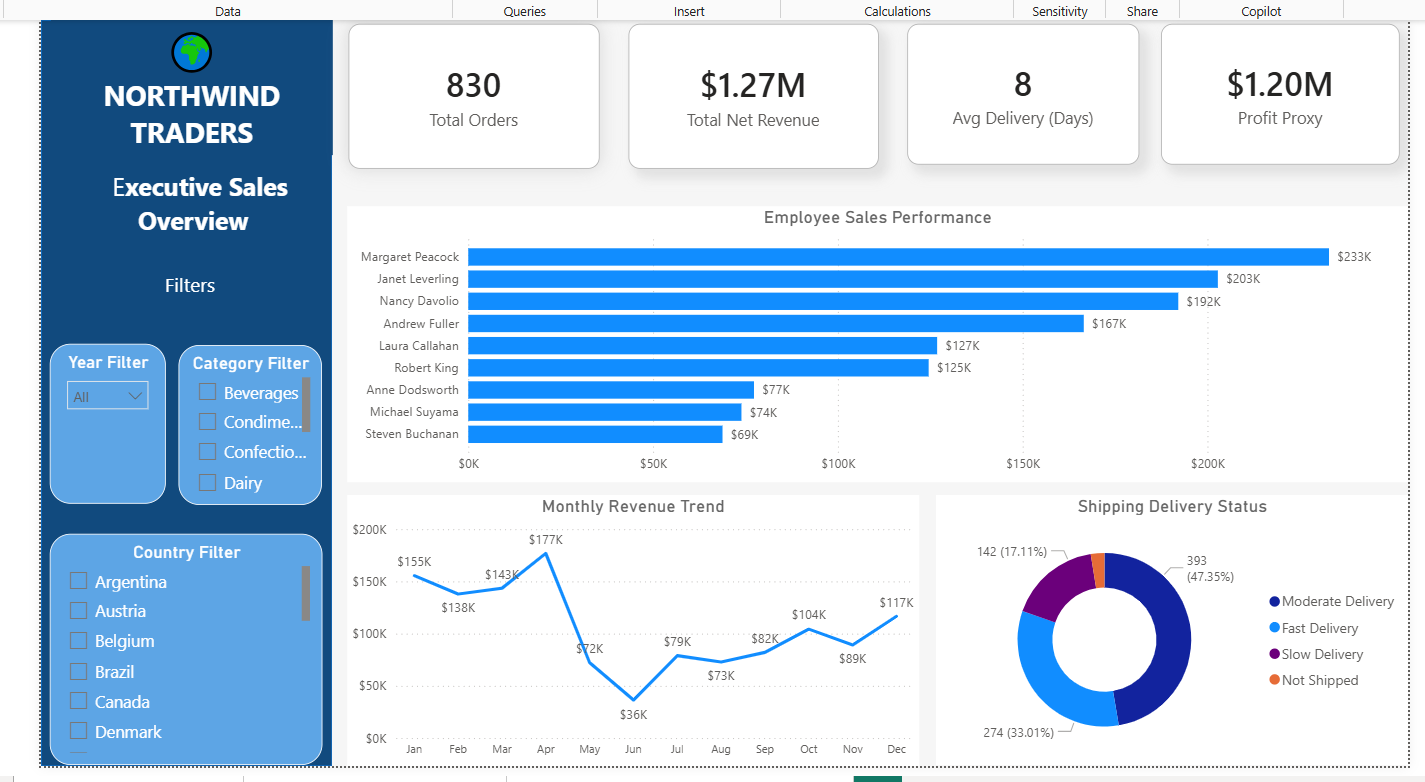

This screenshot's page, from the dashboard's own definition file:
{"tool":"powerbi","page":{"name":"Sales & Revenue Overview","canvas":[1320,720],"ordinal":0},"visuals":[{"type":"shape","box":[0,0,281.1,720.2],"z":0},{"type":"textbox","title":"NORTHWIND TRADERS","box":[9.9,0,271.7,130.2],"z":1000},{"type":"textbox","box":[49.4,140,194.9,79.6],"z":2000},{"type":"cardVisual","fields":{"Data":["categories.Total Orders"]},"box":[296.8,3.6,242.5,139.9],"z":3000},{"type":"cardVisual","fields":{"Data":["categories.Total Net Revenue"]},"box":[567,3.6,241.3,139.9],"z":4000},{"type":"cardVisual","fields":{"Data":["categories.Avg Delivery Days"]},"box":[836.1,3.6,224.4,136.3],"z":5000},{"type":"cardVisual","fields":{"Data":["categories.Profit Proxy"]},"box":[1081,3.6,230.4,136.3],"z":6000},{"type":"clusteredBarChart","title":"Employee Sales Performance","fields":{"Category":["employees.employeeName"],"Y":["categories.Total Net Revenue"]},"box":[295.6,179.8,1024.3,266.6],"z":7000},{"type":"lineChart","title":"Monthly Revenue Trend","fields":{"Y":["categories.Total Net Revenue"],"Category":["orders.Month Short"]},"box":[296.2,458.7,552.2,262.8],"z":8000},{"type":"slicer","title":"Year Filter","fields":{"Values":["orders.orderYear"]},"box":[8.5,312.7,111.8,154.2],"z":9000},{"type":"slicer","title":"Country Filter","fields":{"Values":["customers.country"]},"box":[8.5,495.3,263.2,223.6],"z":10000},{"type":"slicer","title":"Category Filter","fields":{"Values":["categories.categoryName"]},"box":[133,314.2,138.7,154.2],"z":11000},{"type":"textbox","box":[43.9,237.7,200.9,43.9],"z":12000},{"type":"donutChart","title":"Shipping Delivery Status","fields":{"Category":["orders.delayStatus"],"Y":["categories.Total Orders"]},"box":[864,458.7,456.5,260.5],"z":13000}]}

Visuals, with their boxes on the page's 1320x720 design canvas (x1, y1, x2, y2). These are canvas units, not pixel positions in the 1425x782 screenshot, which may show the page scaled, cropped or inside an application window:
shape: crop(0, 0, 281, 720)
"NORTHWIND TRADERS" textbox: crop(10, 0, 282, 130)
textbox: crop(49, 140, 244, 220)
cardVisual - categories.Total Orders: crop(297, 4, 539, 144)
cardVisual - categories.Total Net Revenue: crop(567, 4, 808, 144)
cardVisual - categories.Avg Delivery Days: crop(836, 4, 1060, 140)
cardVisual - categories.Profit Proxy: crop(1081, 4, 1311, 140)
"Employee Sales Performance" clusteredBarChart: crop(296, 180, 1320, 446)
"Monthly Revenue Trend" lineChart: crop(296, 459, 848, 722)
"Year Filter" slicer: crop(8, 313, 120, 467)
"Country Filter" slicer: crop(8, 495, 272, 719)
"Category Filter" slicer: crop(133, 314, 272, 468)
textbox: crop(44, 238, 245, 282)
"Shipping Delivery Status" donutChart: crop(864, 459, 1320, 719)
